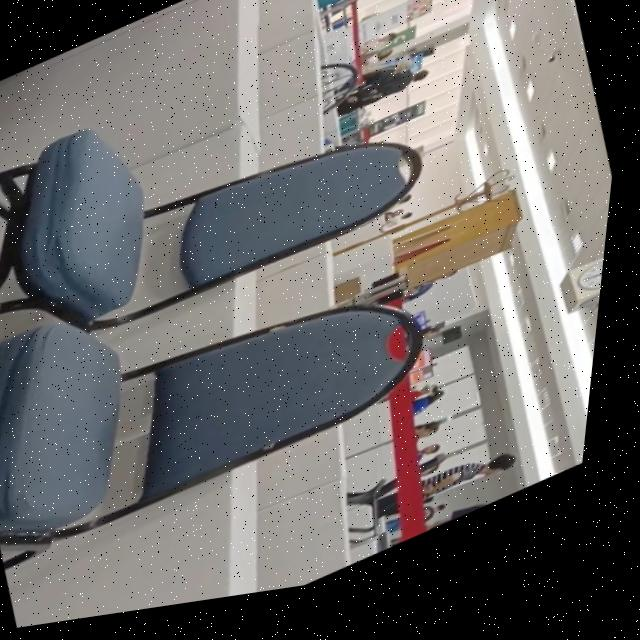sandalye: (0, 316, 430, 570), (0, 130, 427, 334)
